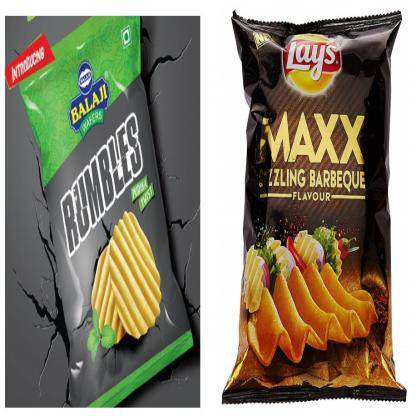maxx_sizzling_barbeque: (234, 13, 397, 402)
